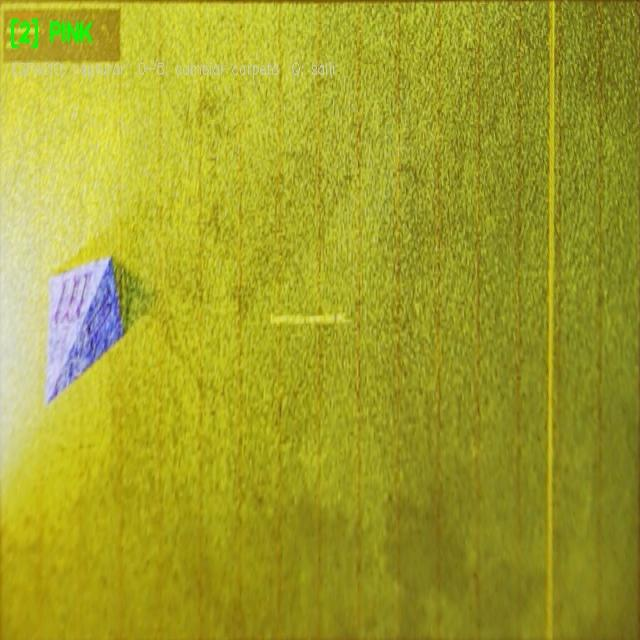pink: (45, 257, 123, 404)
